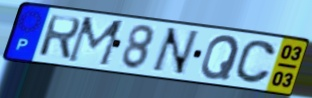8: (120, 23, 157, 71)
C: (232, 39, 279, 86)
M: (64, 15, 128, 69)
N: (147, 26, 202, 77)
Q: (198, 33, 242, 81)
R: (36, 13, 83, 62)
